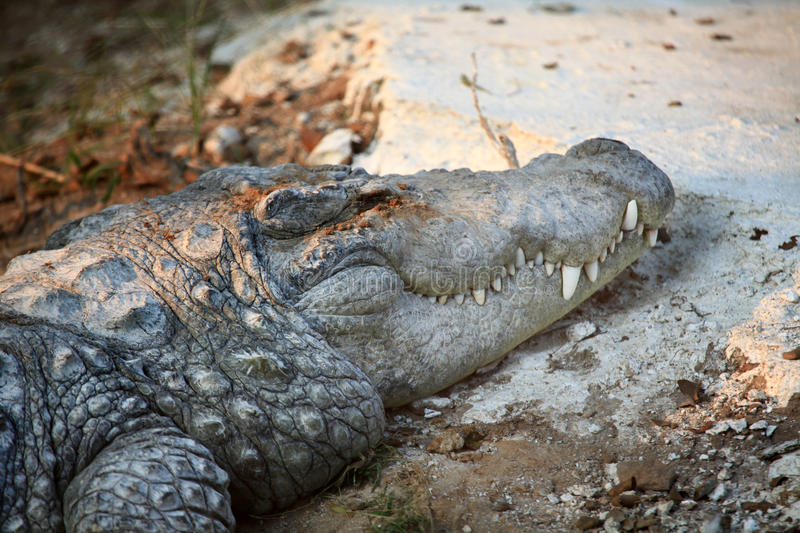Crocodile: (1, 135, 676, 532)
